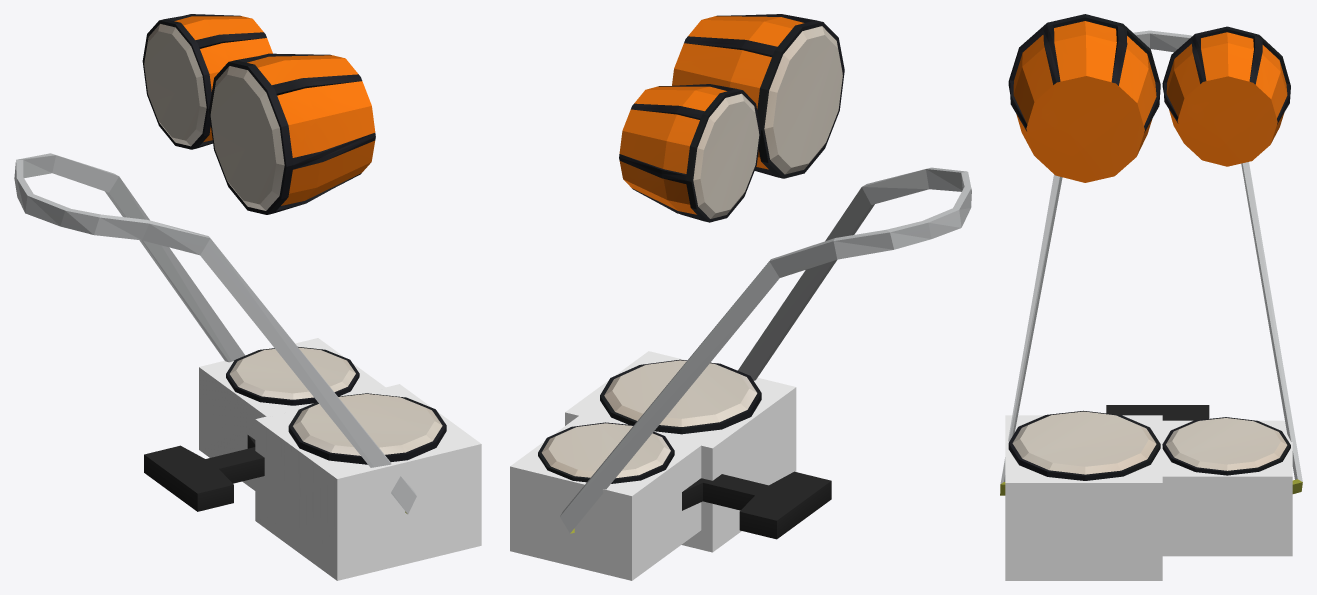
The model's file is BONGOS.fbx.
The picture shows the model from 3 angles, left to right: view 1: azimuth 30°, elevation 25°; view 2: azimuth 150°, elevation 25°; view 3: azimuth 270°, elevation 25°; orthographic projection. The views are drawn at different scales.
Parts seen in each view (by area): view 1: combinedbongonosupport, disablerbig, bongosupport, bongobig, disablersmall, bongosmall; view 2: combinedbongonosupport, bongosupport, disablersmall, disablerbig, bongobig, bongosmall; view 3: combinedbongonosupport, disablerbig, disablersmall, bongobig, bongosupport, bongosmall.
Part boxes in pixels (box(x1,y1,x2,y2)): combinedbongonosupport: box(142, 14, 375, 214); disablerbig: box(255, 384, 481, 580); bongosupport: box(14, 153, 416, 514); bongobig: box(288, 393, 446, 464); disablersmall: box(199, 338, 386, 490); bongosmall: box(226, 347, 359, 405); combinedbongonosupport: box(619, 14, 844, 222); bongosupport: box(560, 167, 971, 539); disablersmall: box(510, 415, 701, 580); disablerbig: box(565, 351, 796, 552); bongobig: box(600, 359, 761, 434); bongosmall: box(538, 422, 674, 483); combinedbongonosupport: box(1008, 14, 1290, 182); disablerbig: box(1005, 415, 1162, 580); disablersmall: box(1160, 420, 1292, 556); bongobig: box(1008, 410, 1160, 480); bongosupport: box(1000, 30, 1302, 495); bongosmall: box(1162, 417, 1290, 475).
Size of what is drawn, in the model's own units: 50.68 by 62.99 by 36.25.
